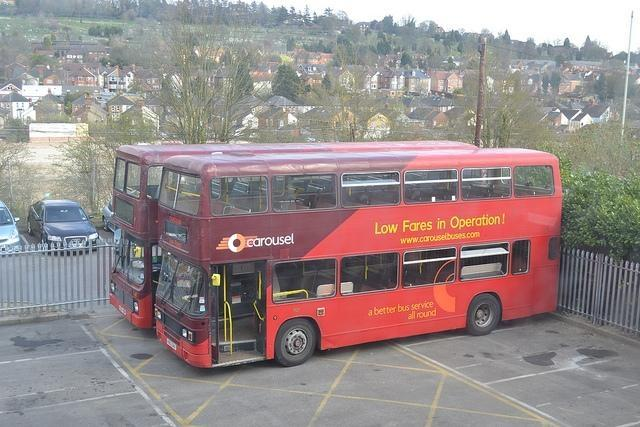bus: (153, 146, 562, 376), (109, 140, 480, 329)
car: (24, 198, 100, 244), (1, 202, 24, 256), (102, 198, 114, 233)
